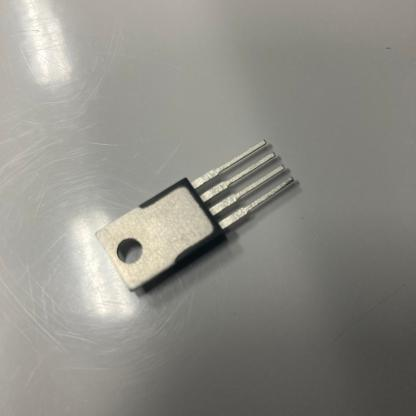SP0000012: (51, 108, 346, 353)
